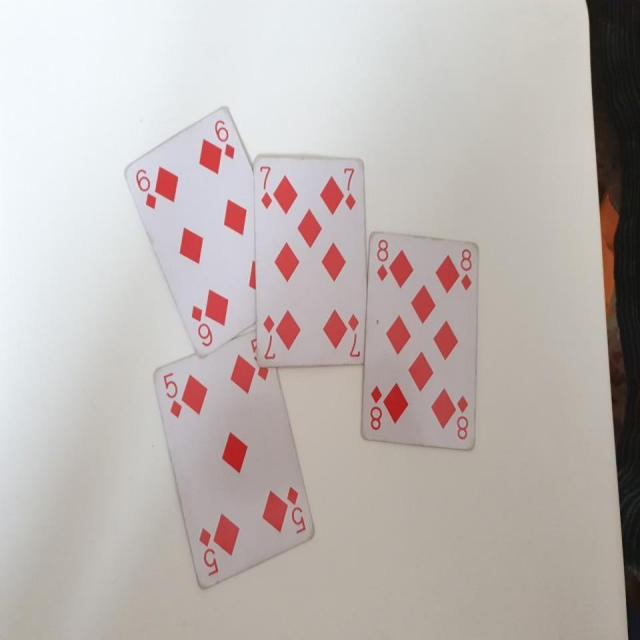5 Diamonds: (148, 320, 316, 591)
6 Diamonds: (122, 104, 255, 359)
7 Diamonds: (254, 153, 368, 366)
8 Diamonds: (359, 230, 479, 448)
